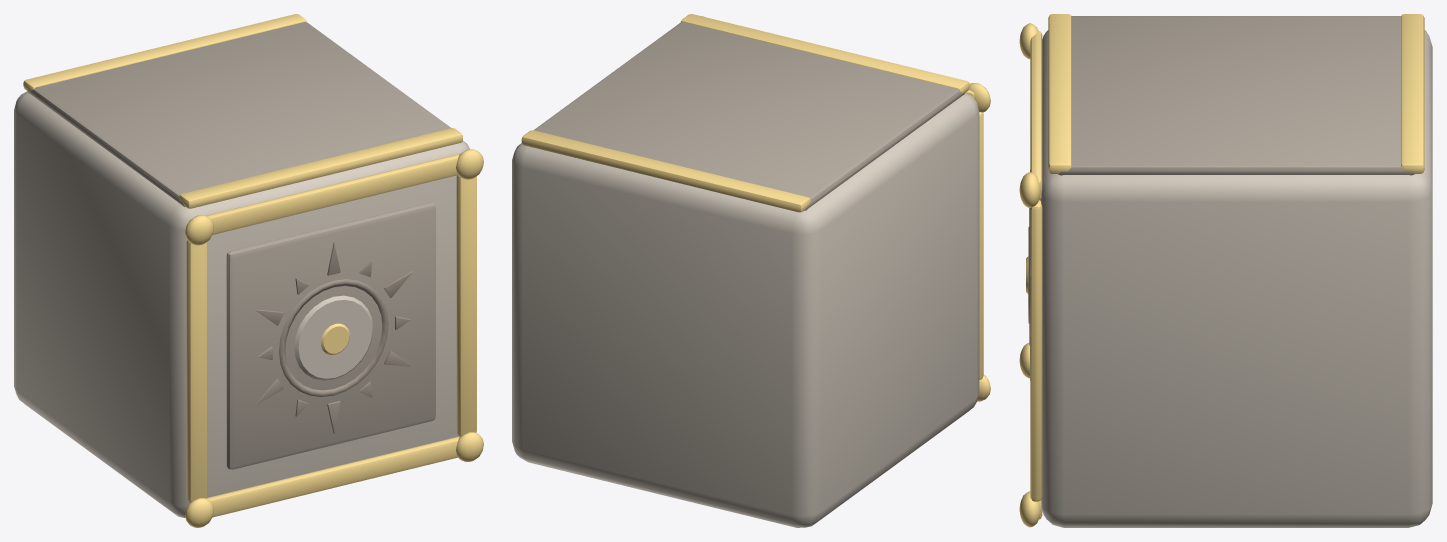
File: block.glb
The picture shows the model from 3 angles, left to right: view 1: azimuth 30°, elevation 25°; view 2: azimuth 150°, elevation 25°; view 3: azimuth 270°, elevation 25°; orthographic projection. The views are drawn at different scales.
Parts seen in each view (by area): view 1: block; view 2: block; view 3: block.
Boxes of the visible parts, x1,y1,x2,y2 form: block: [14, 14, 483, 527]; block: [512, 14, 990, 527]; block: [1019, 14, 1432, 527].
Size of the model in its own units: 0.98 by 1 by 1.03.
